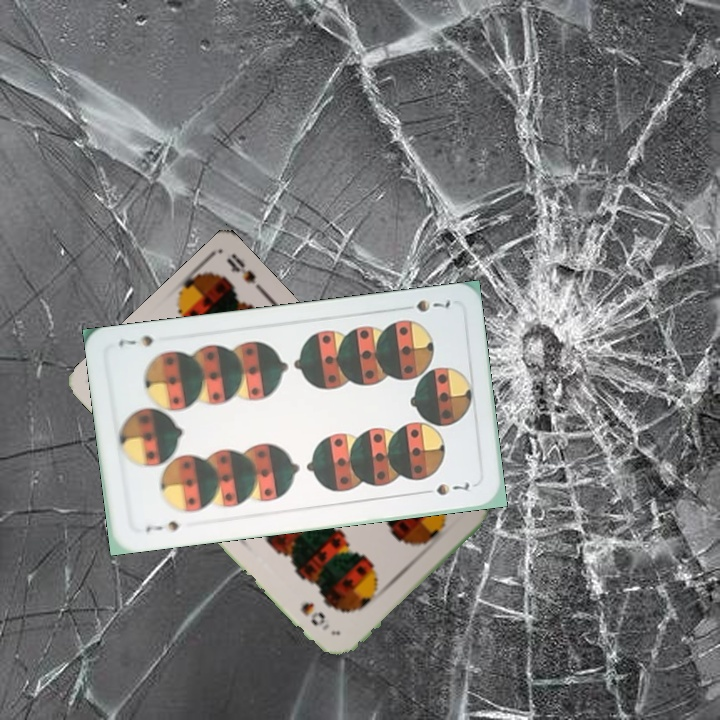S7: (411, 295, 453, 315), (141, 516, 181, 535)
